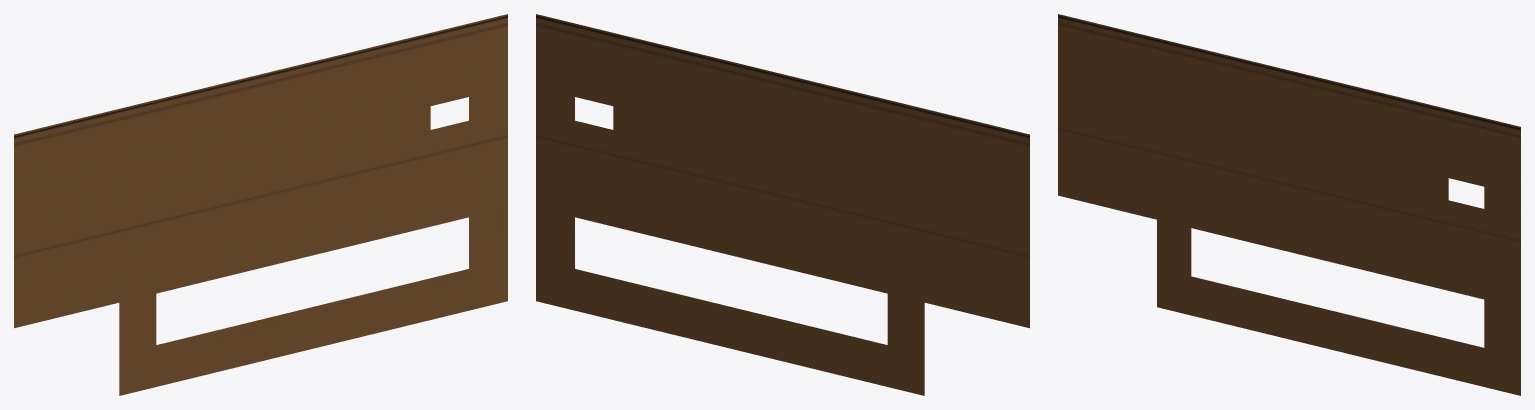
The model's file is WallVariation7.fbx.
The picture shows the model from 3 angles, left to right: view 1: azimuth 30°, elevation 25°; view 2: azimuth 150°, elevation 25°; view 3: azimuth 330°, elevation 25°; orthographic projection. The views are drawn at different scales.
Parts seen in each view (by area): view 1: aaaaaaa.001; view 2: aaaaaaa.001; view 3: aaaaaaa.001.
Part boxes in pixels (bbox=[...]): aaaaaaa.001: bbox=[14, 14, 507, 395]; aaaaaaa.001: bbox=[536, 14, 1029, 395]; aaaaaaa.001: bbox=[1058, 14, 1520, 395].
Bounding box in the file's own units: 1264 × 702 × 0.00012.
